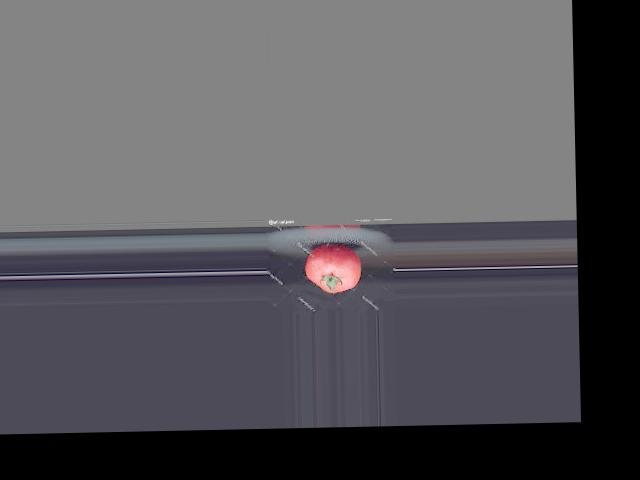tomato: (304, 243, 362, 294)
